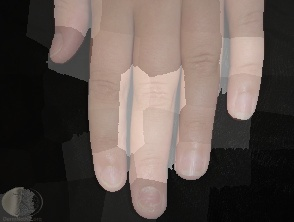Nail_psoriasis: (167, 139, 214, 186), (127, 176, 172, 220), (90, 155, 131, 196), (226, 84, 265, 125), (47, 29, 69, 61)
